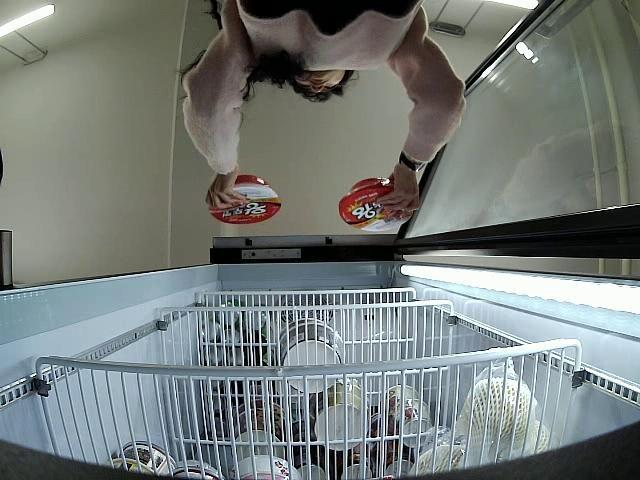10_wangTtukkeong: (339, 176, 412, 232), (210, 174, 284, 227)
